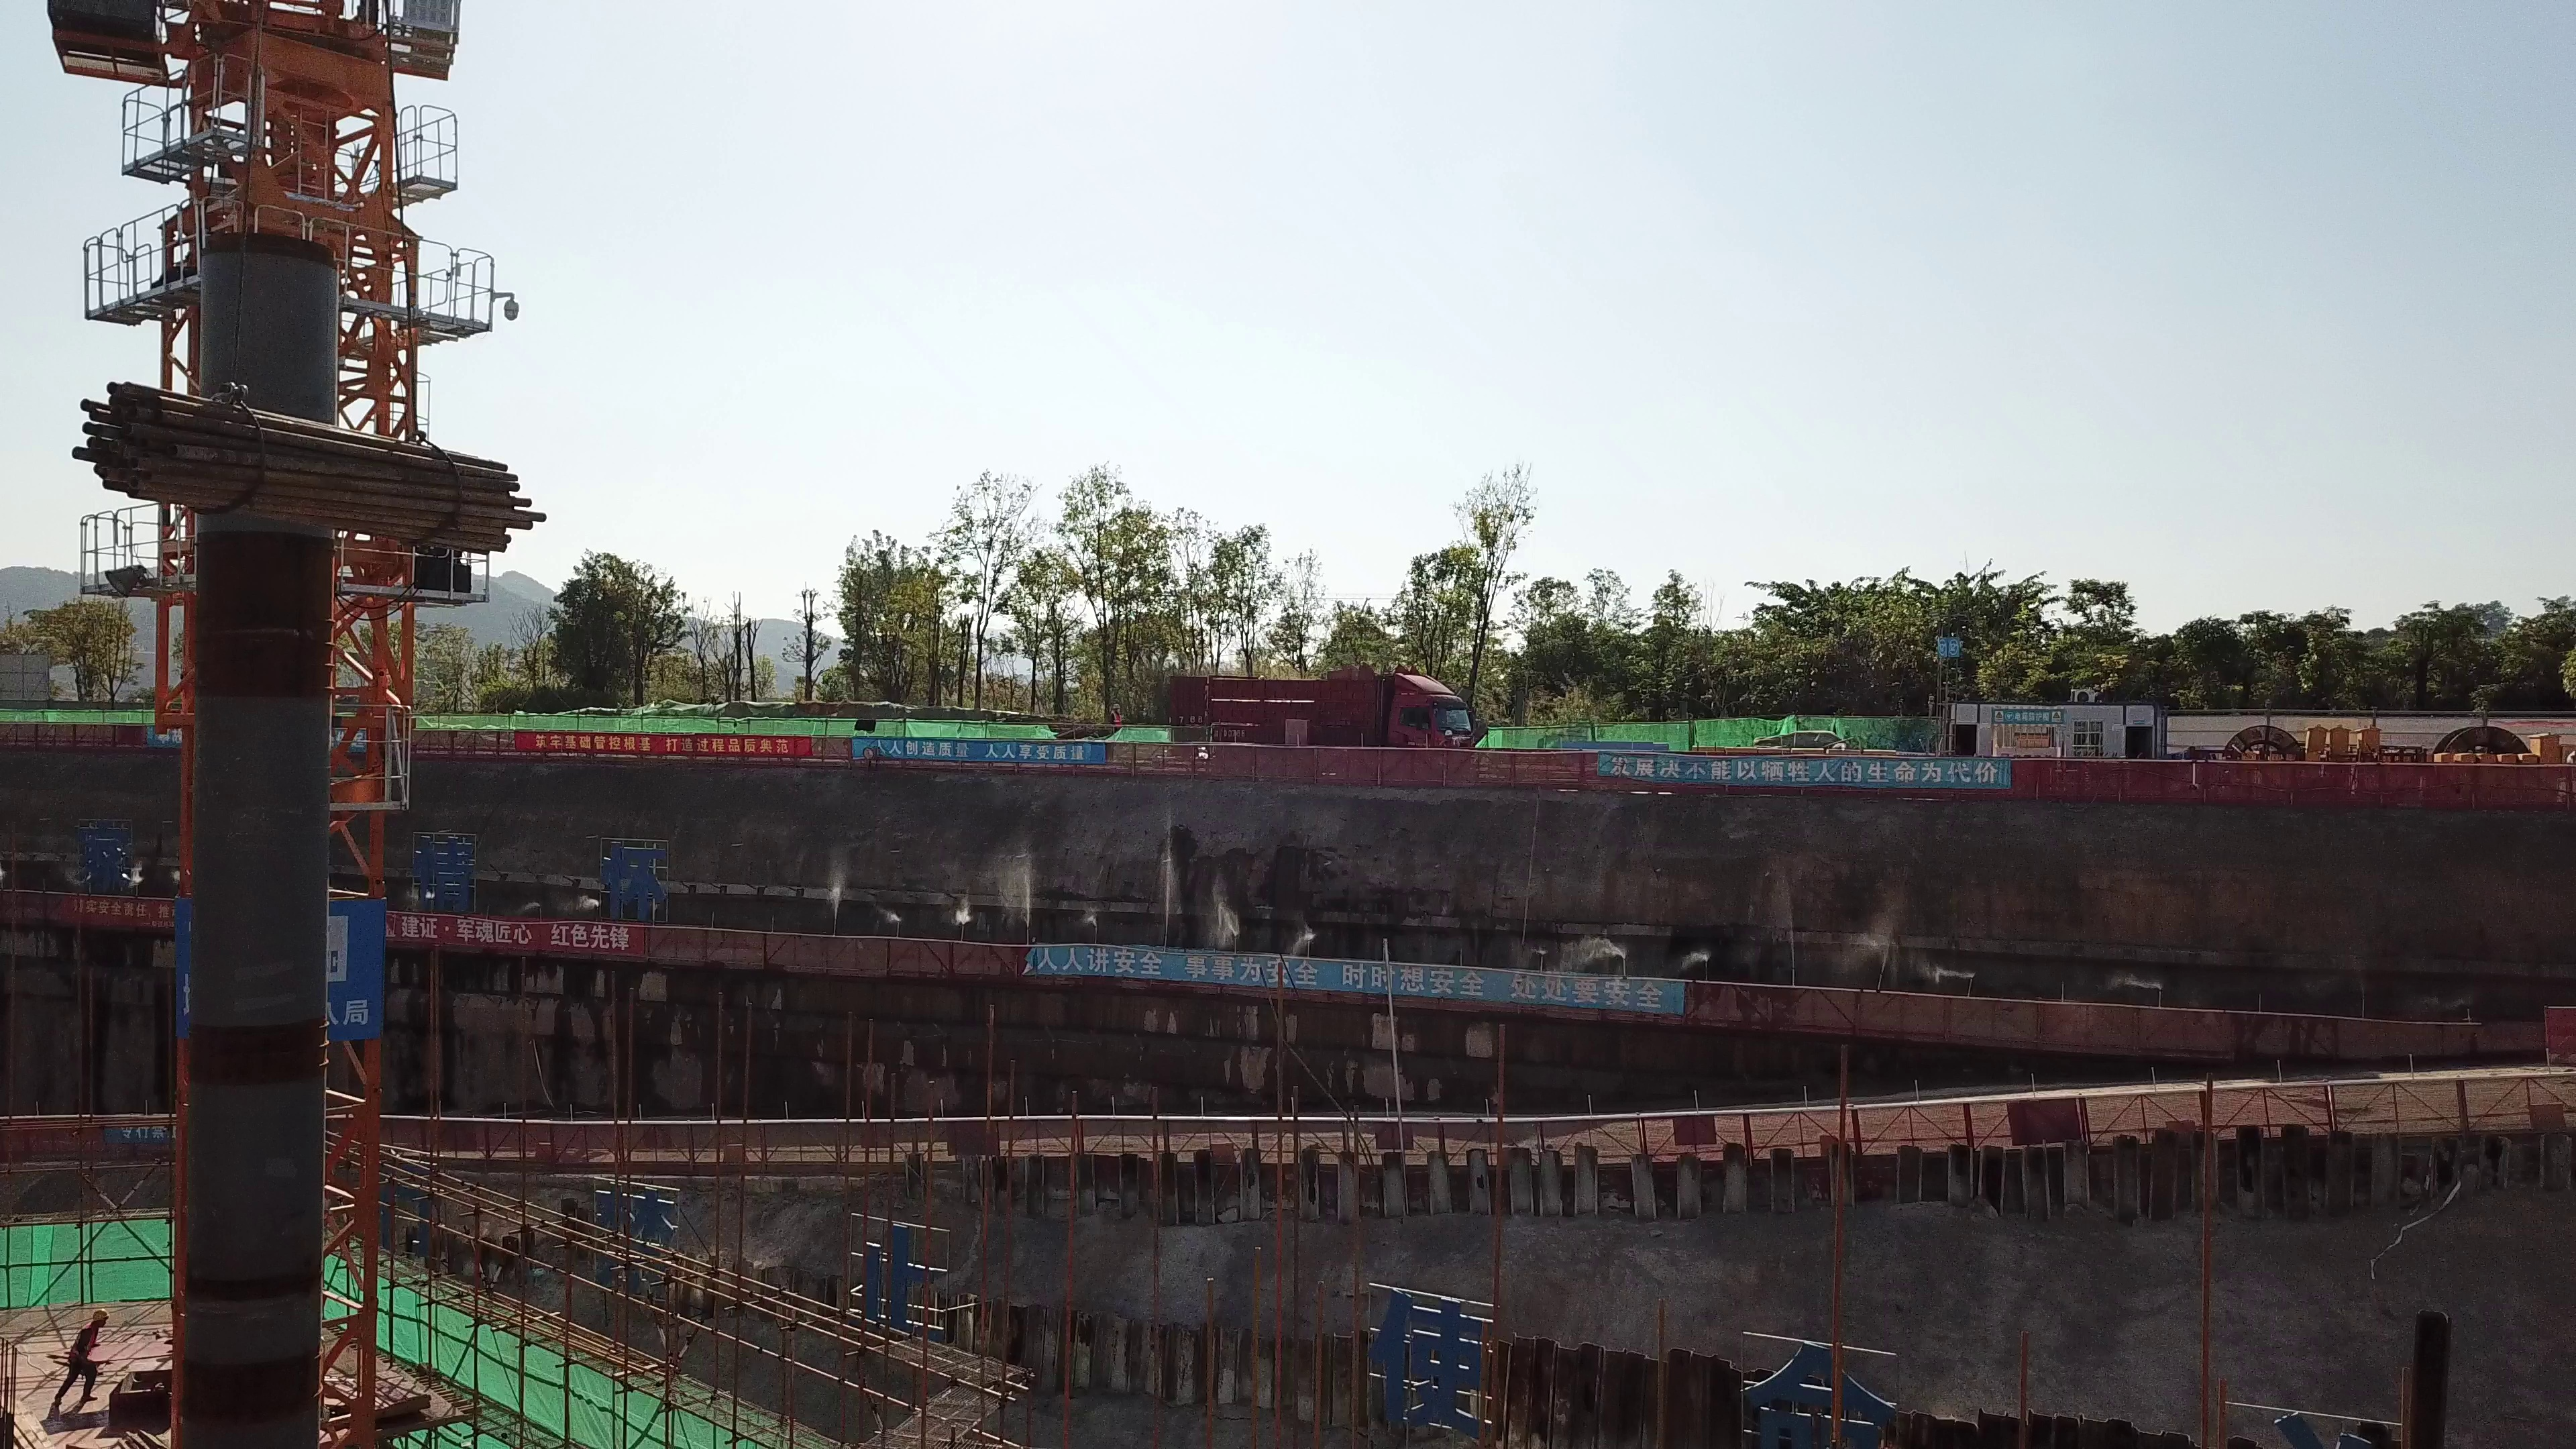fence: (1862, 1073, 2561, 1155), (539, 1120, 1266, 1179), (1263, 1099, 1855, 1168), (1693, 974, 2051, 1062), (2017, 748, 2562, 802), (645, 924, 1033, 989), (2056, 1004, 2494, 1060)
helmet: (94, 1309, 109, 1320)
person: (25, 1298, 133, 1436)
slogan: (1028, 937, 1678, 1018), (1604, 752, 2014, 792), (383, 912, 643, 956), (516, 725, 811, 759), (837, 735, 1106, 768), (68, 890, 173, 926)
vest: (66, 1326, 99, 1362)
